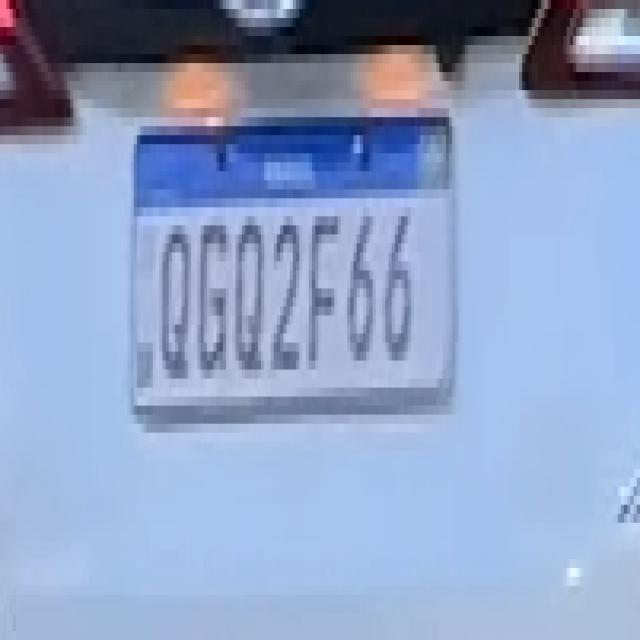Placa_mercosul_carro: (130, 115, 458, 436)
